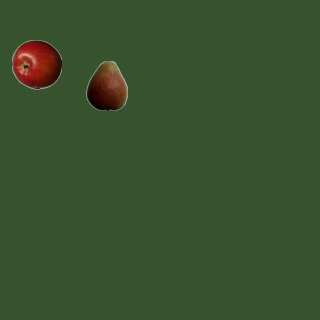Apple Braeburn: (11, 39, 61, 89)
Pear Forelle: (81, 60, 131, 110)
